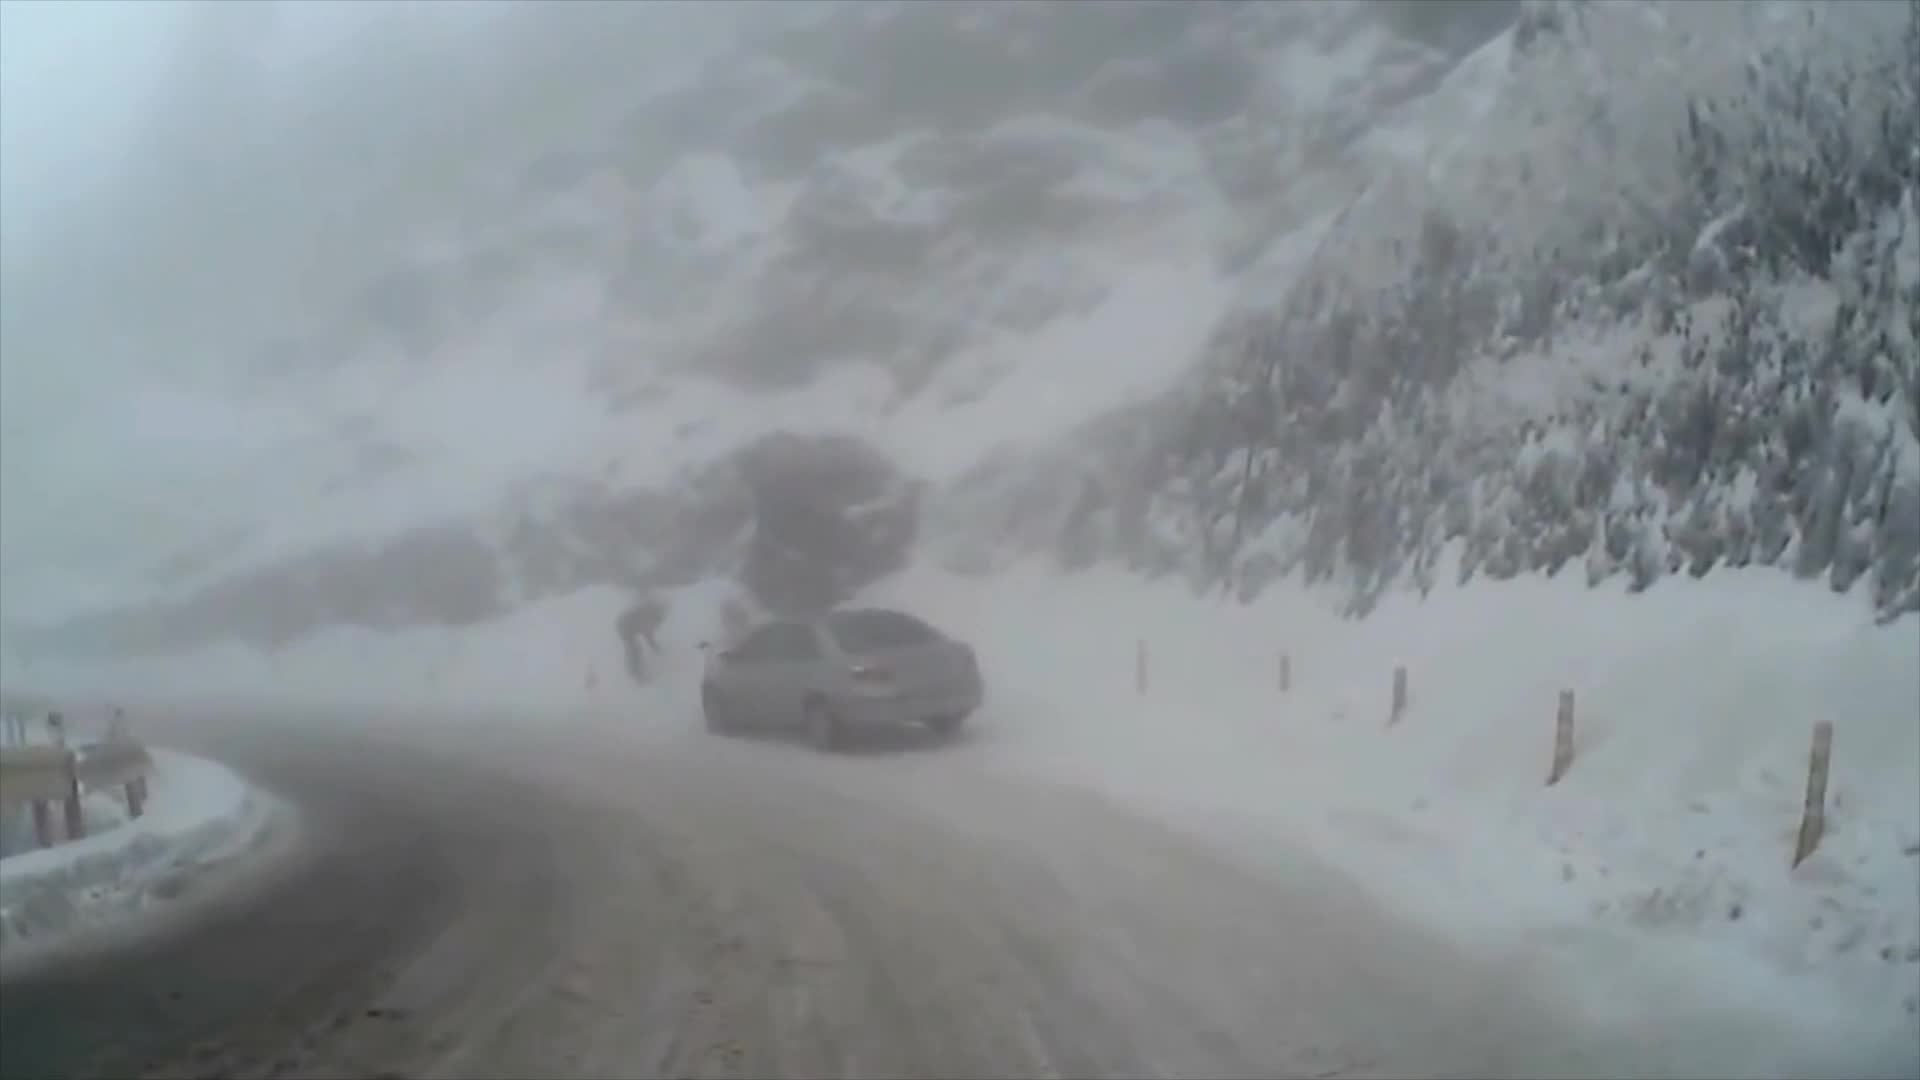pedestrian: (692, 599, 756, 715), (617, 603, 672, 684)
vehicle: (699, 607, 983, 753)
